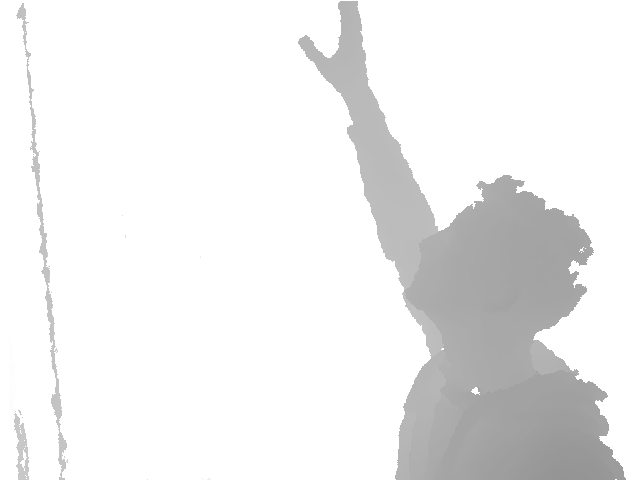hand: (298, 1, 374, 90)
head: (405, 174, 595, 351)
person: (298, 1, 627, 480)
